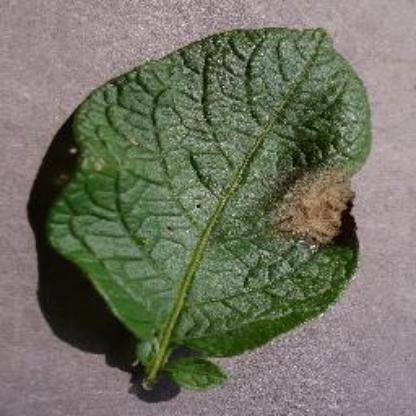Late-Blight: (27, 14, 391, 402)
